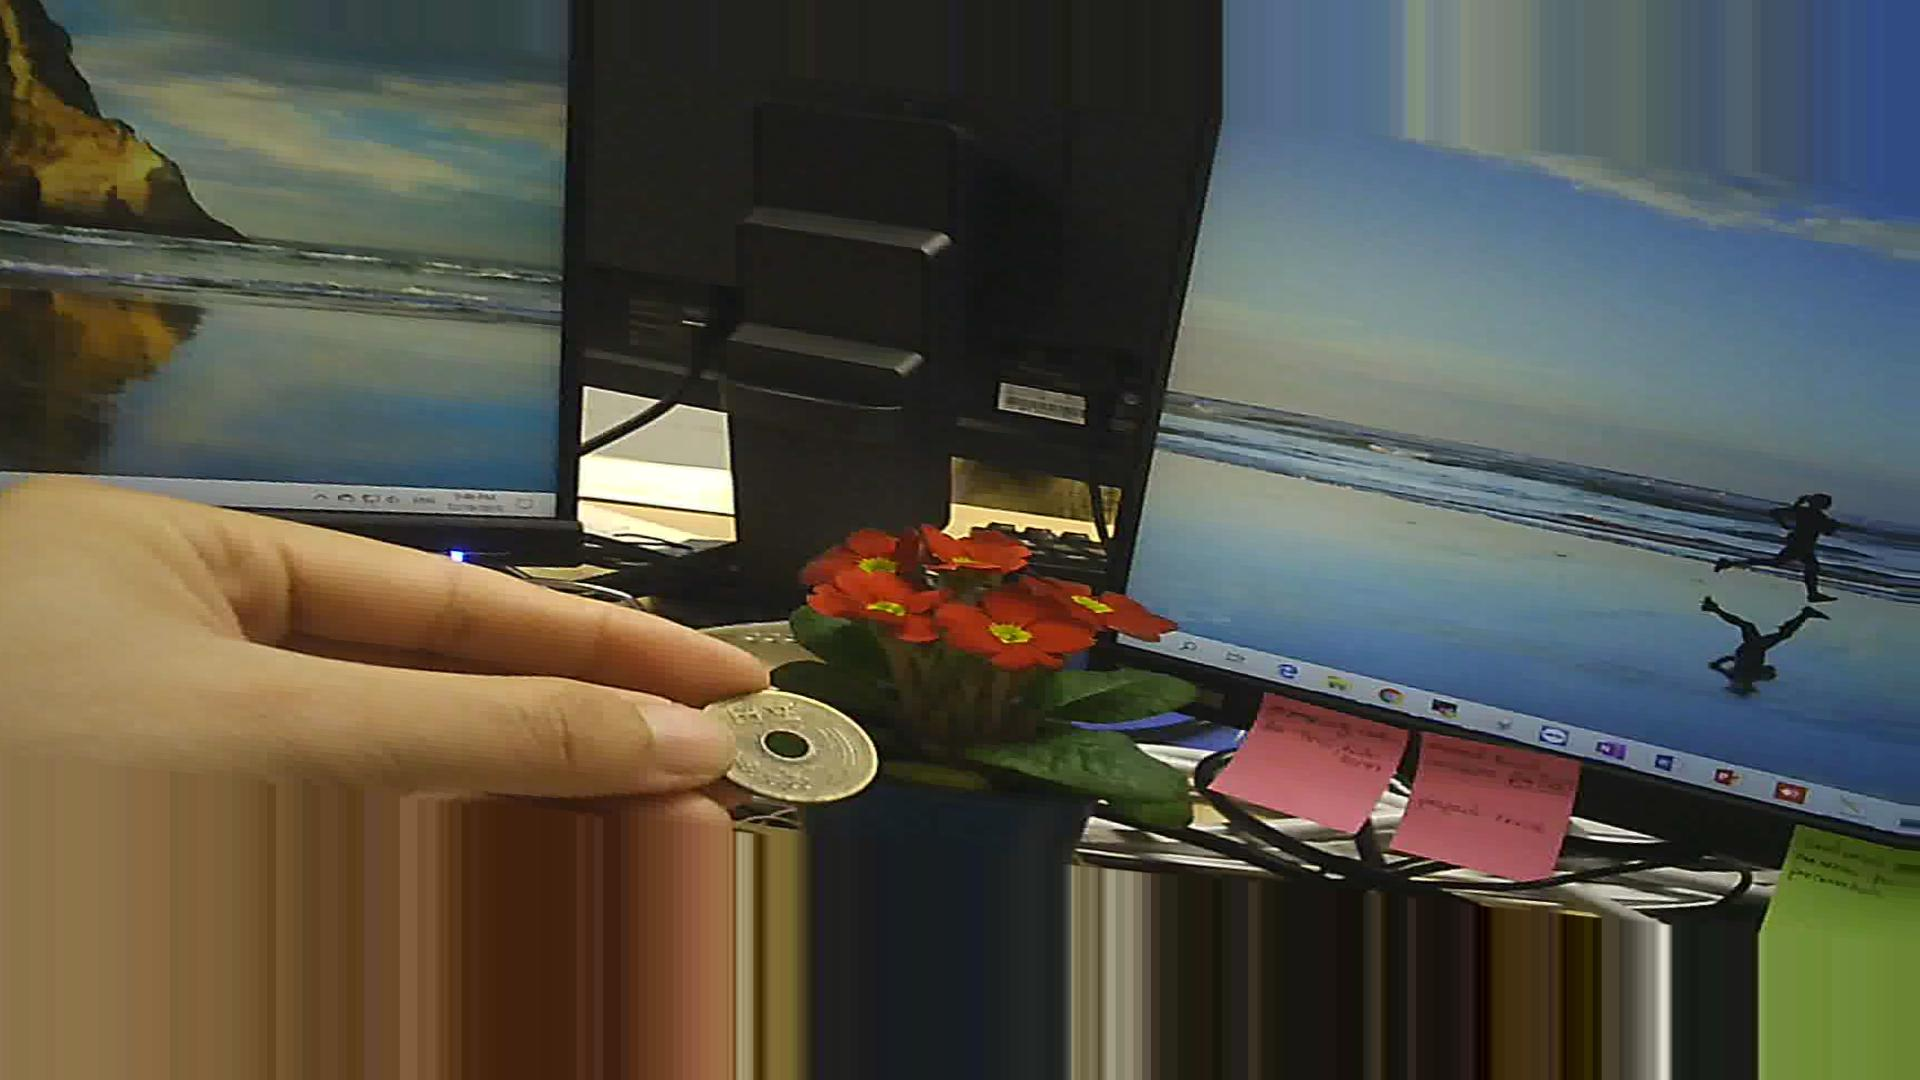5 Yen: (688, 675, 872, 812)
